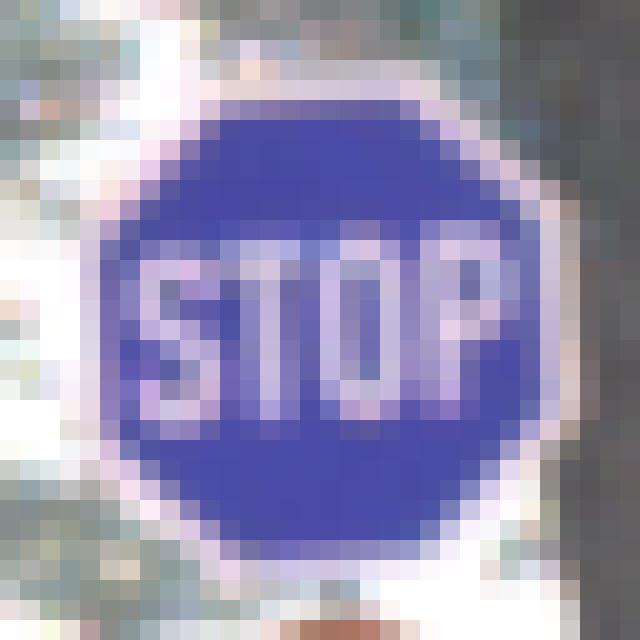STOP: (94, 92, 549, 549)
